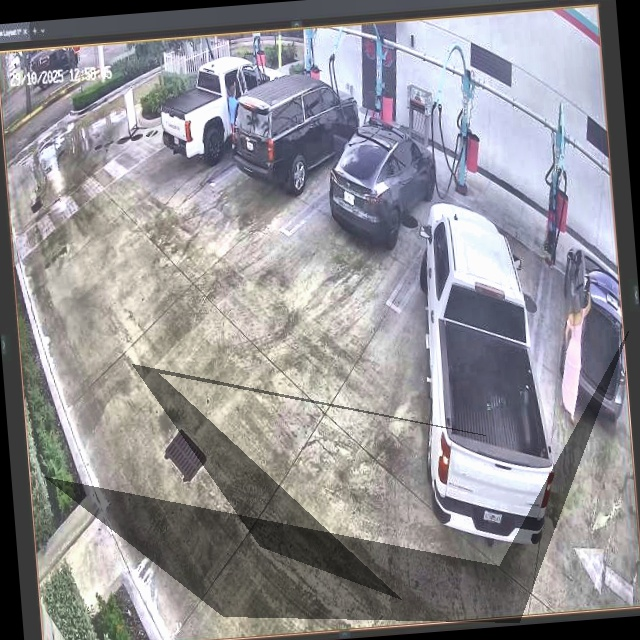Car: (408, 194, 560, 555), (229, 70, 363, 192), (325, 118, 441, 249), (157, 53, 288, 168)
